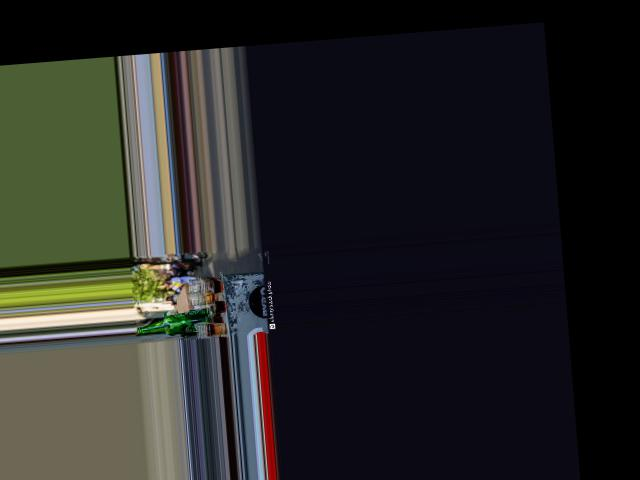beer: (135, 306, 218, 338)
